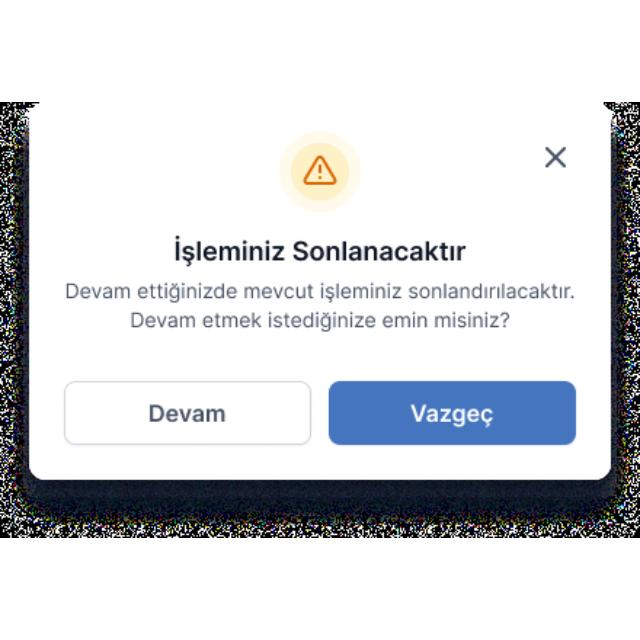QLabel: (69, 281, 575, 303), (169, 236, 473, 264), (126, 310, 506, 332), (407, 404, 495, 428), (147, 404, 227, 424)
VBtn: (324, 382, 578, 448), (65, 381, 313, 447)
VDialog: (28, 119, 610, 482)
VIcon: (280, 132, 360, 214), (544, 144, 568, 170)
